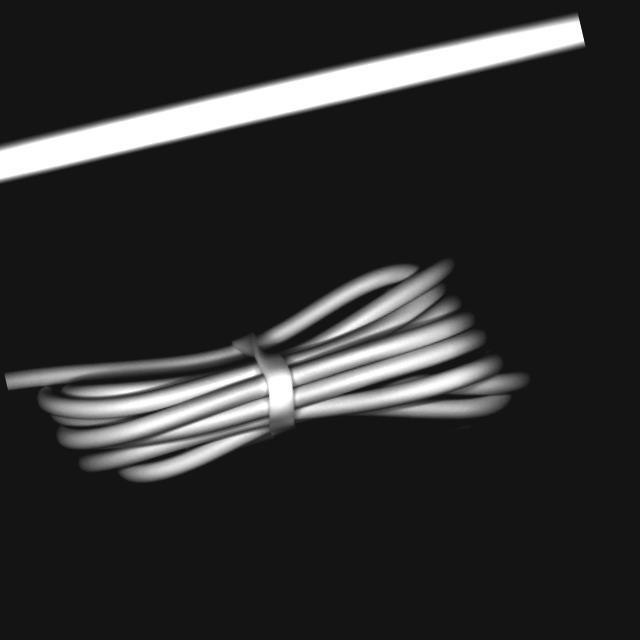Cable: (0, 230, 543, 525)
